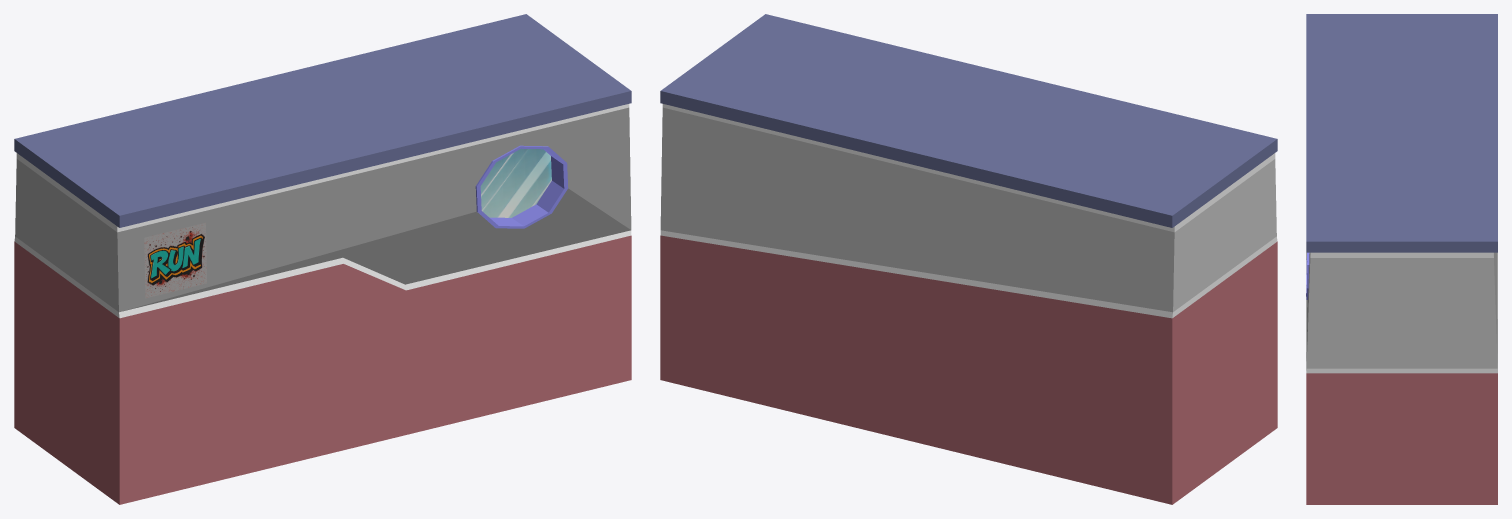
Rendered from 0_1_Building_1_2.fbx.
3 views of the same model, side by side, from view 1: azimuth 30°, elevation 25°; view 2: azimuth 150°, elevation 25°; view 3: azimuth 270°, elevation 25° (orthographic). The views are drawn at different scales.
Parts seen in each view (by area): view 1: 0_1_Building_1_2; view 2: 0_1_Building_1_2; view 3: 0_1_Building_1_2.
Part boxes in pixels (bbox=[...]): 0_1_Building_1_2: bbox=[14, 14, 631, 504]; 0_1_Building_1_2: bbox=[660, 14, 1277, 504]; 0_1_Building_1_2: bbox=[1306, 14, 1497, 504].
Size of the model in its own units: 2250 by 1214 by 801.
